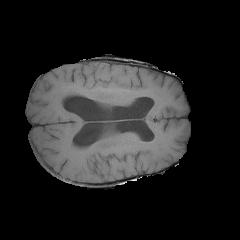glioma: (65, 65, 153, 98)
